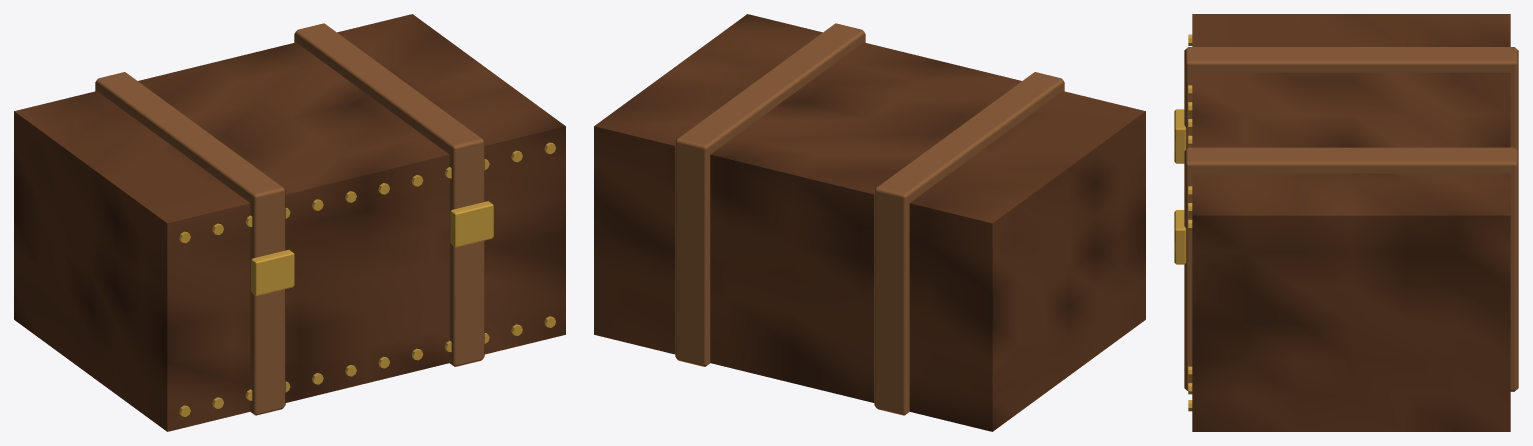
The model's file is FindStrongbox.glb.
3 renders of one model, left to right at view 1: azimuth 30°, elevation 25°; view 2: azimuth 150°, elevation 25°; view 3: azimuth 270°, elevation 25°, orthographic. The views are drawn at different scales.
Visible parts, largest first — view 1: Box_5.001; view 2: Box_5.001; view 3: Box_5.001.
Part boxes in pixels (x1=…): Box_5.001: x1=14, y1=14, x2=565, y2=431; Box_5.001: x1=594, y1=14, x2=1145, y2=431; Box_5.001: x1=1174, y1=14, x2=1518, y2=431.
Size of the model in its own units: 1.2 by 0.64 by 0.865.
